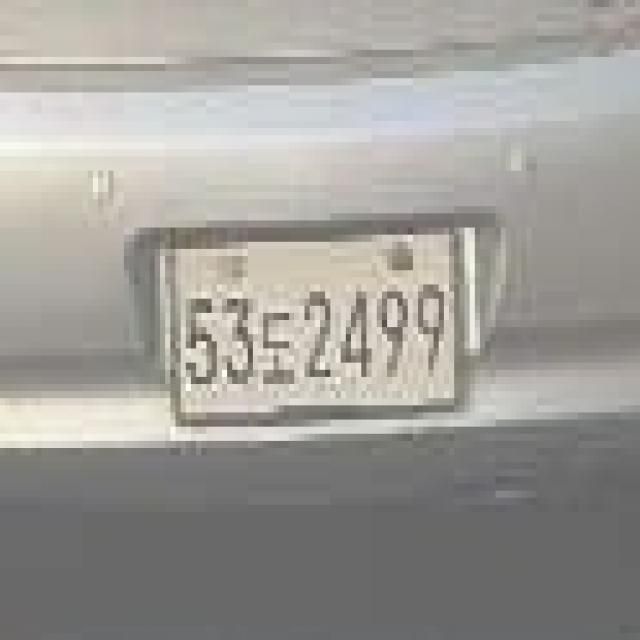2: (299, 277, 341, 391)
3: (212, 285, 258, 391)
4: (330, 284, 372, 370)
5: (180, 285, 217, 391)
9: (377, 270, 413, 391), (413, 277, 449, 384)
do: (253, 299, 299, 384)
license_plate: (150, 220, 464, 420)
